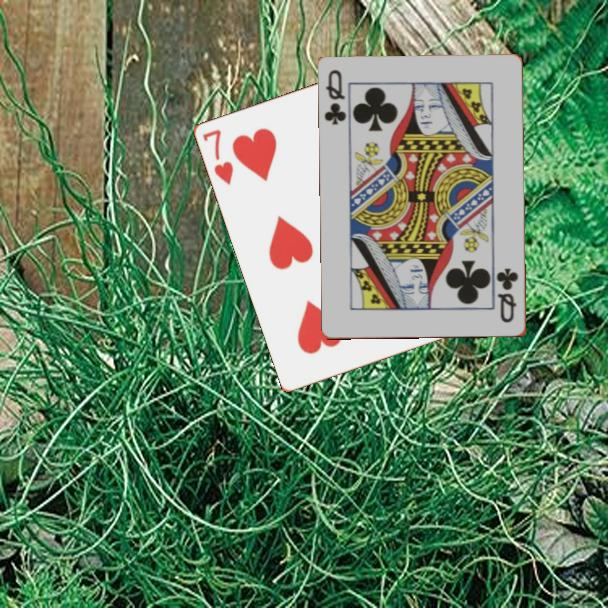c12: (321, 66, 349, 128), (493, 265, 521, 326)
h07: (199, 126, 237, 188)
